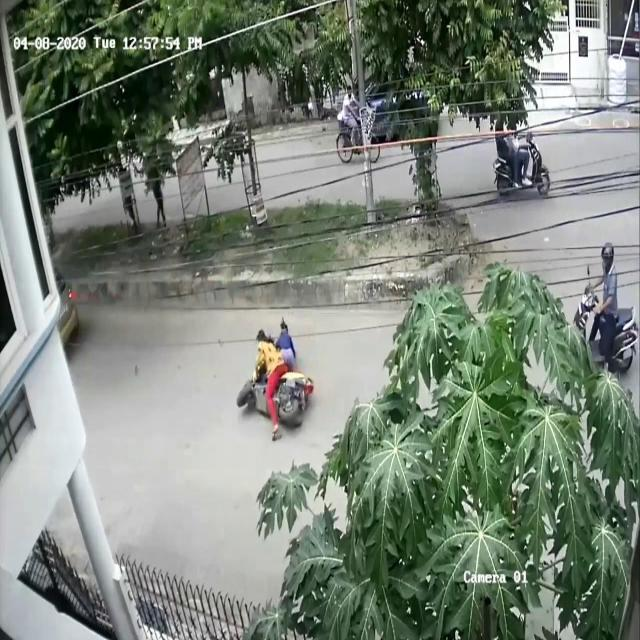accident: (234, 314, 318, 444)
